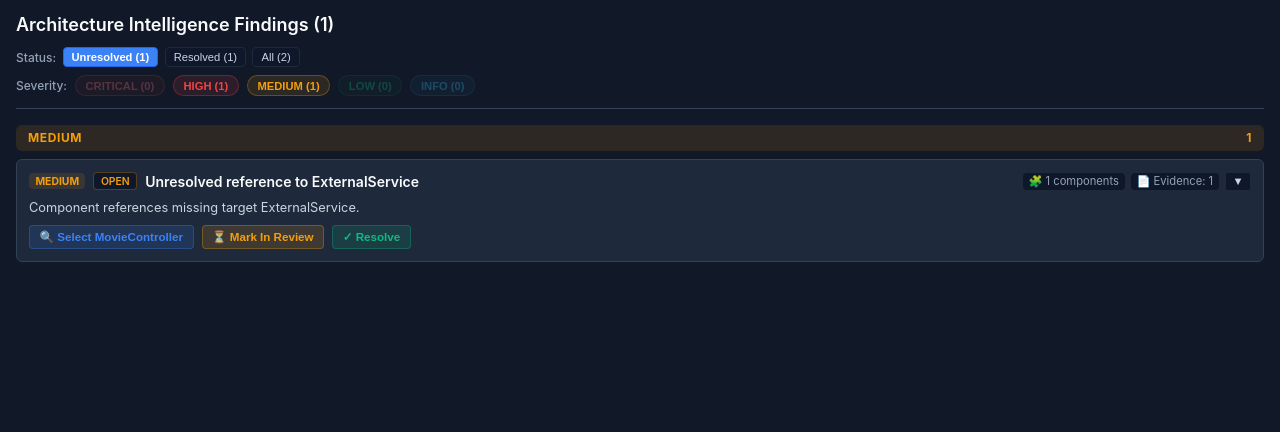
Test case: FindingsPanel Component › filters findings by Unresolved, Resolved, and All status filters
This screenshot has width=1280, height=432.
Check: the text "MovieController is a high fan-in hub (9 dependents)" is not shown
Check: the heading "Unresolved reference to ExternalService" is shown, box [145,173,419,190]
Note: Switch to RESOLVED tab
What coordinates should you click on to do the following:
click the button "Resolved (1)"
I would click on:
 (205, 57)
Its box is [165,47,246,67].
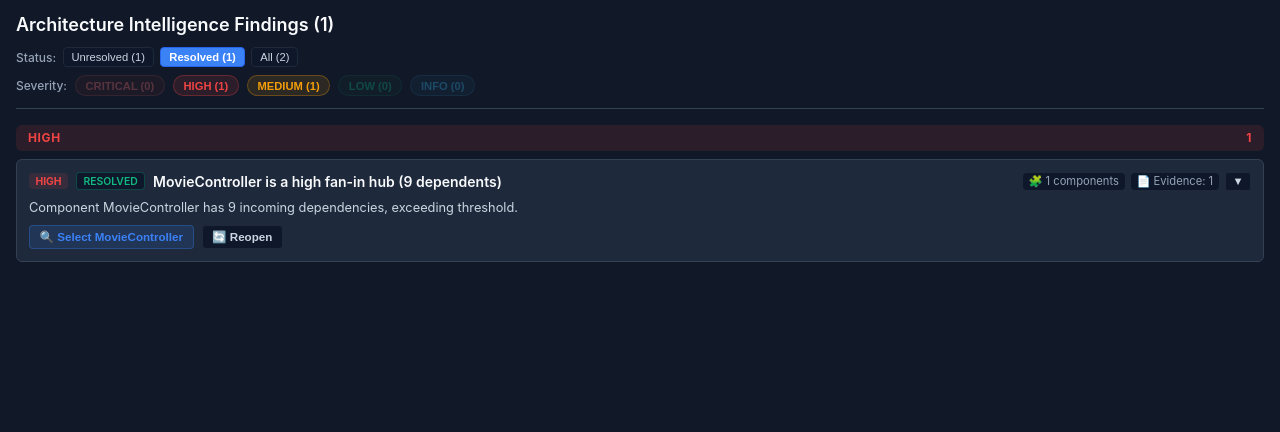
Check: the heading "MovieController is a high fan-in hub (9 dependents)" is shown, box [153,173,502,190]
Check: the heading "Unresolved reference to ExternalService" is gone
Note: Switch to ALL tab
What coordinates should you click on to do the following:
click the button "All (2)"
I would click on:
 (275, 57)
Its box is [251,47,298,67].
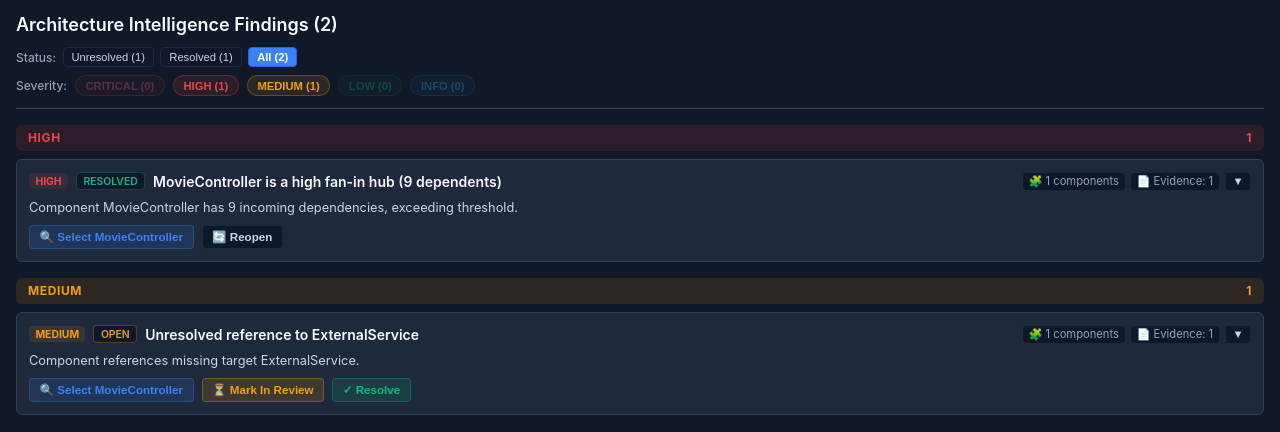
Check: the heading "MovieController is a high fan-in hub (9 dependents)" is shown, box [153,173,502,190]
Check: the heading "Unresolved reference to ExternalService" is shown, box [145,326,419,343]
